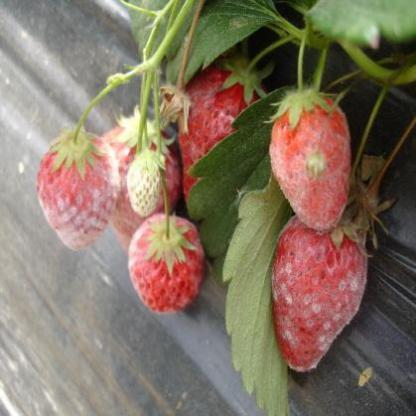Strawberry_Powdery_Mildew_Fruit: (270, 192, 376, 372), (270, 87, 351, 231), (35, 130, 120, 250), (176, 61, 251, 177), (128, 212, 206, 314), (126, 146, 166, 218)
